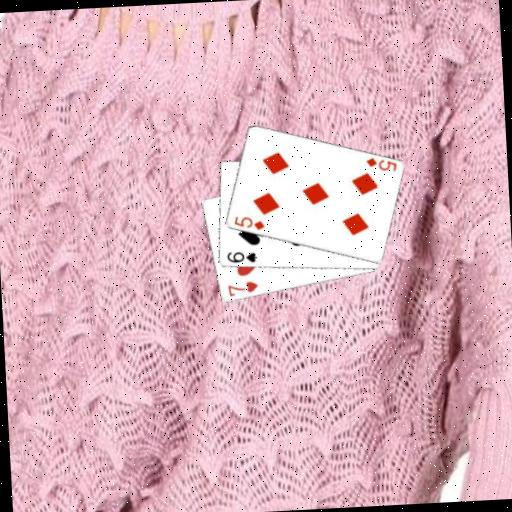5D: (230, 212, 266, 233), (363, 154, 399, 175)
6S: (224, 248, 259, 266)
7H: (224, 279, 260, 299)
